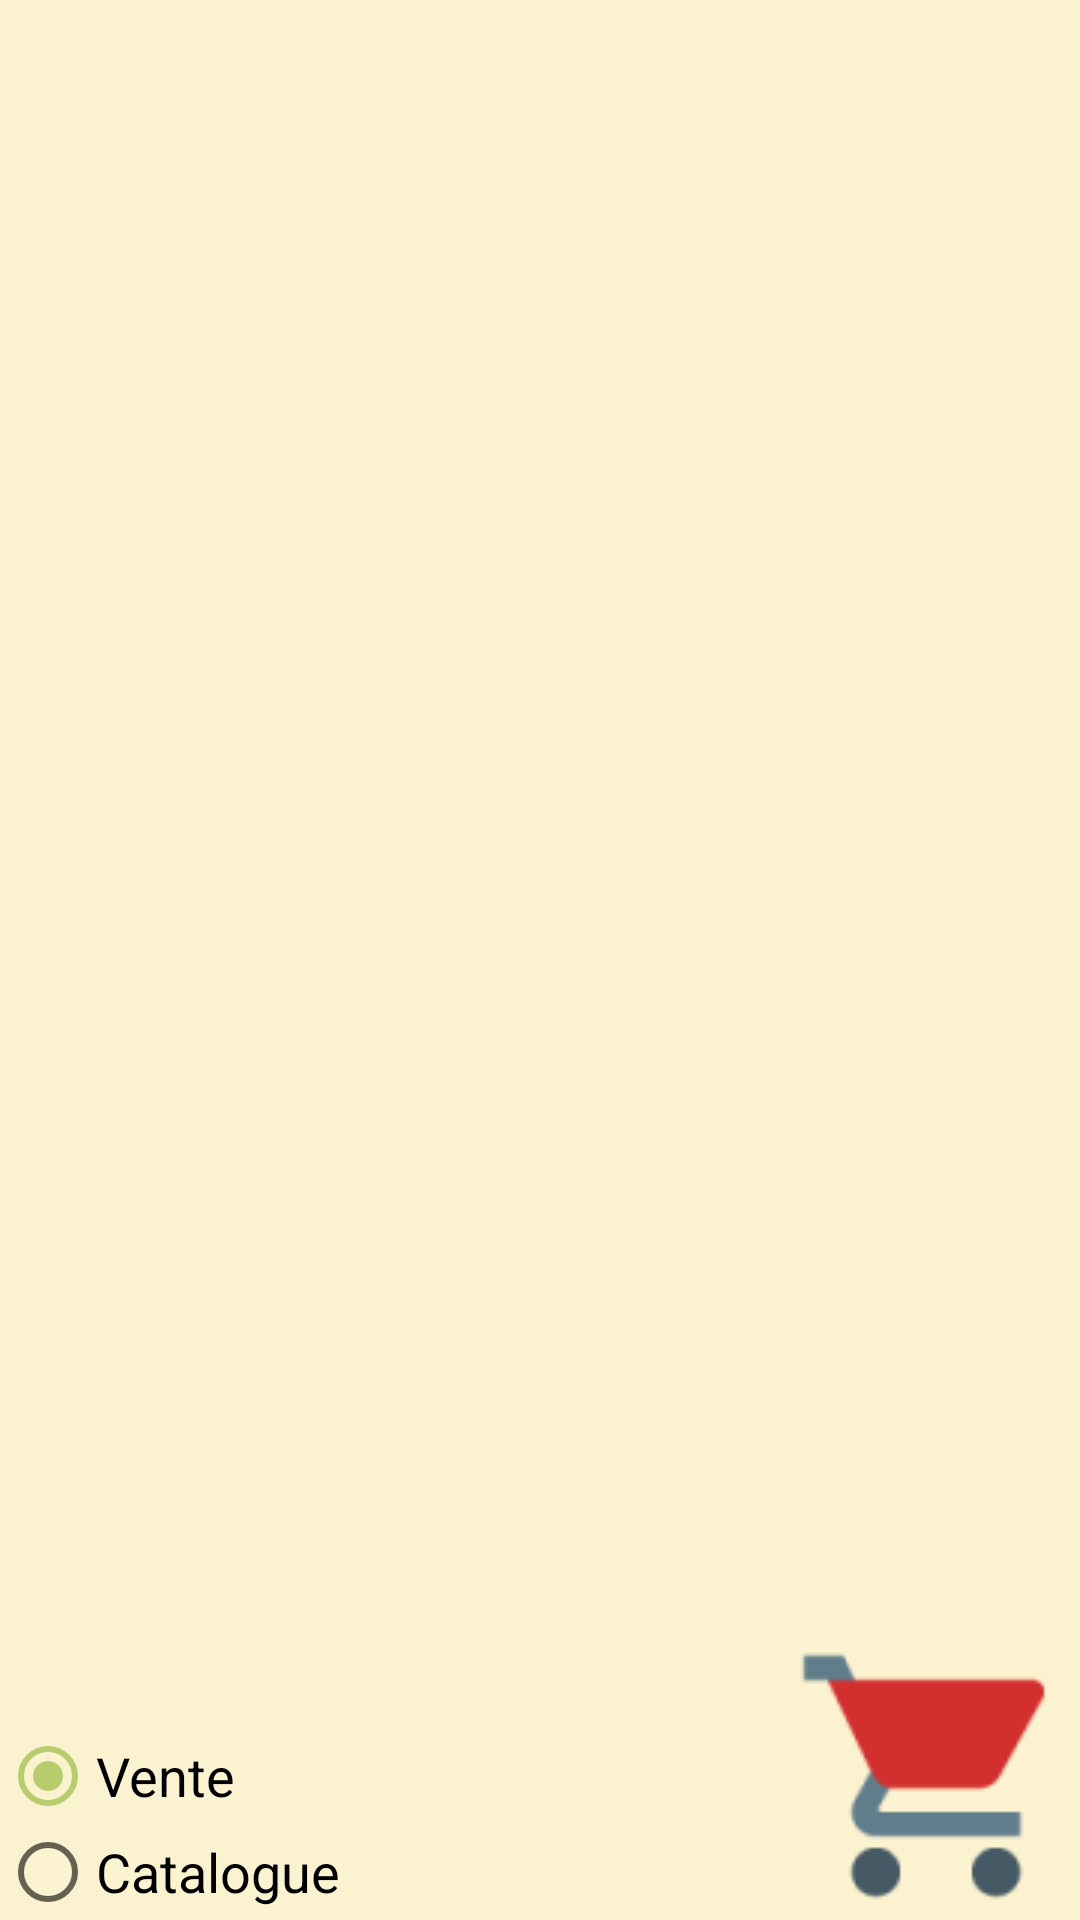

Where to tap for icons on this 1080x1920 app screen, as [x,y]:
basket accueil: [923,1776]
